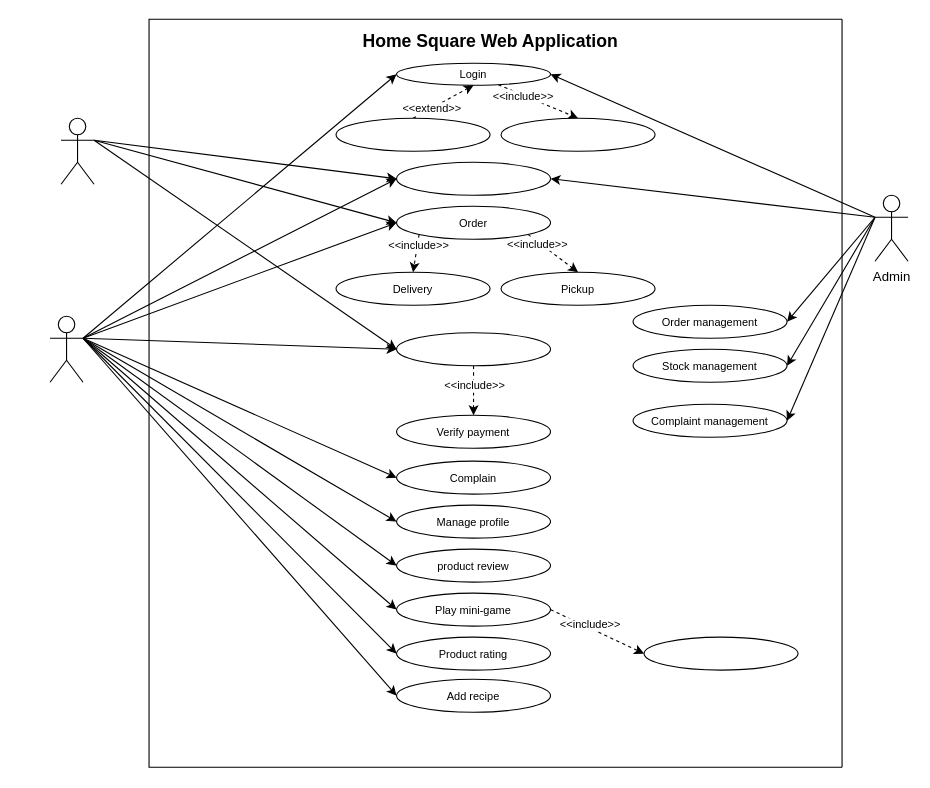
The diagram is 930 pixels wide and 788 high, and some of its shapes have lost their labels. The shapes that lost their labels are listed below. From the top down, each one's centre as x and y in pixels, then its label:
pixel 77 150: Anonymous User
pixel 412 134: Display login error
pixel 577 134: Verify password
pixel 473 178: Browse/Search
pixel 66 348: Registered User
pixel 473 349: make payment
pixel 720 653: Reward
